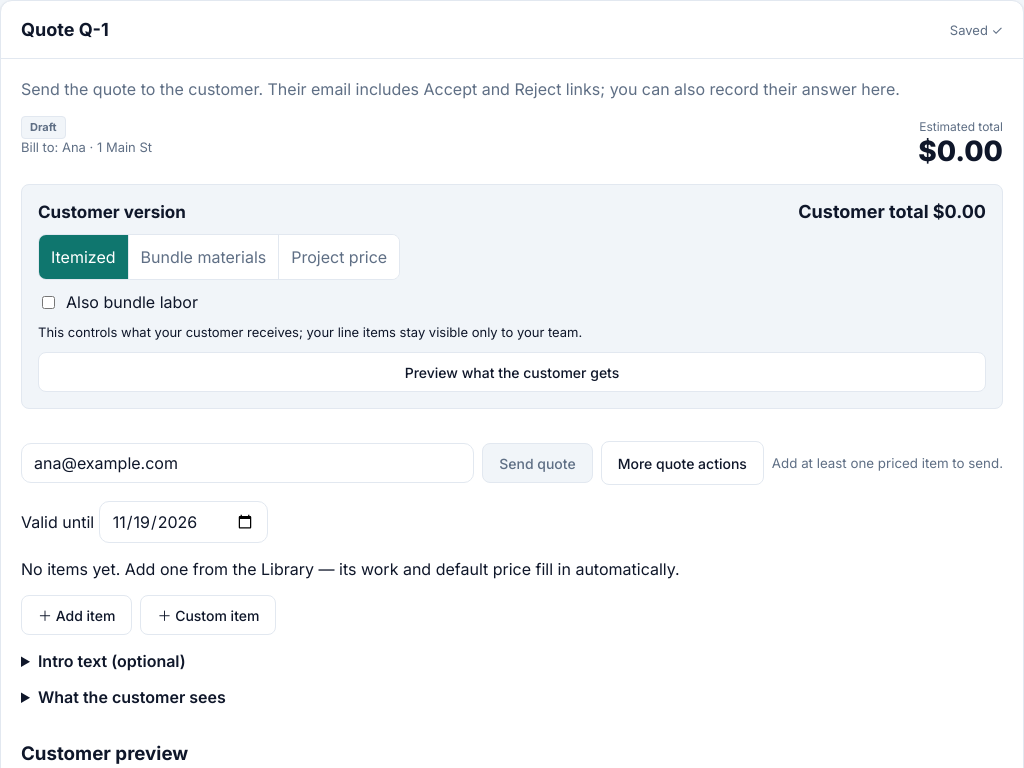
QuotePanel › '＋ Add item' adds the Library item with its default prices, updates the total, and adds it to the job's findings too
The image size is (1024, 768).
Click the button "＋ Add item" at (77, 615), box [21,595,132,635]
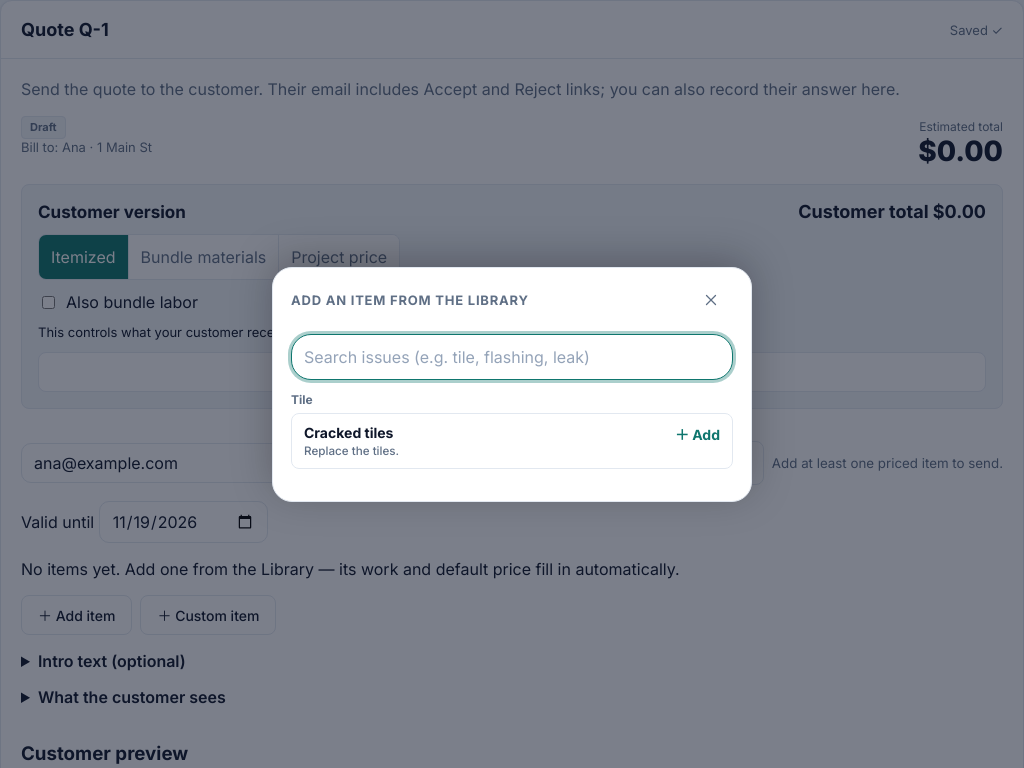
Click the text "Cracked tiles" at (349, 432), box [304,424,393,440]
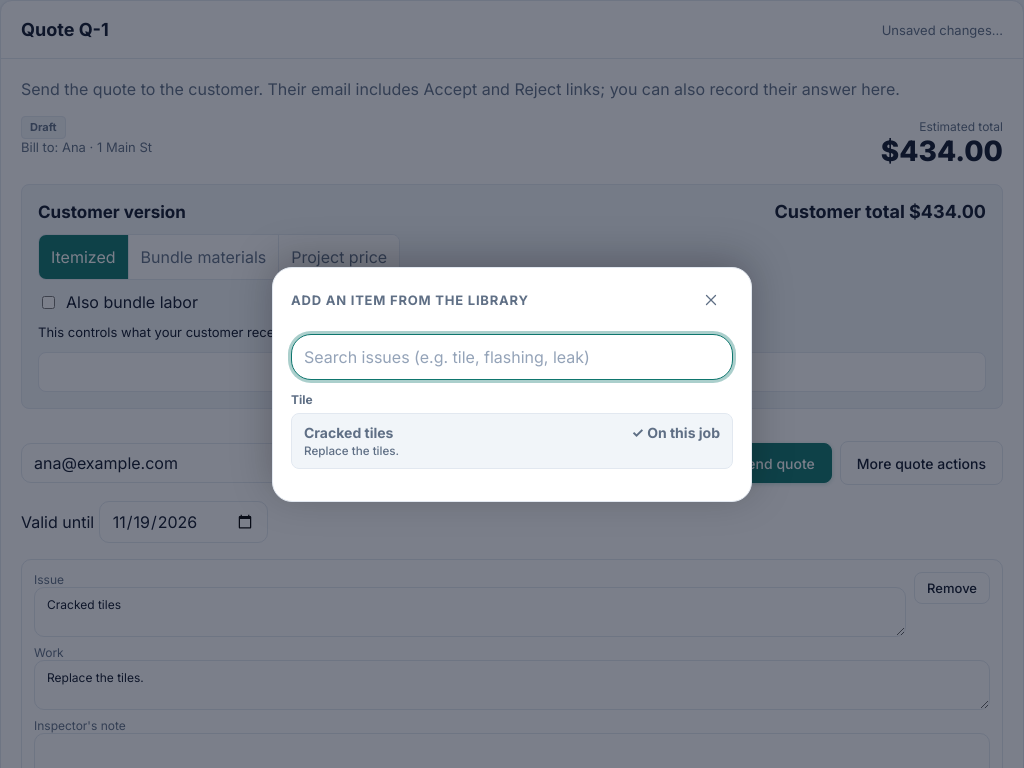
Now the text "$434.00" is shown, box [881,134,1003,168]
